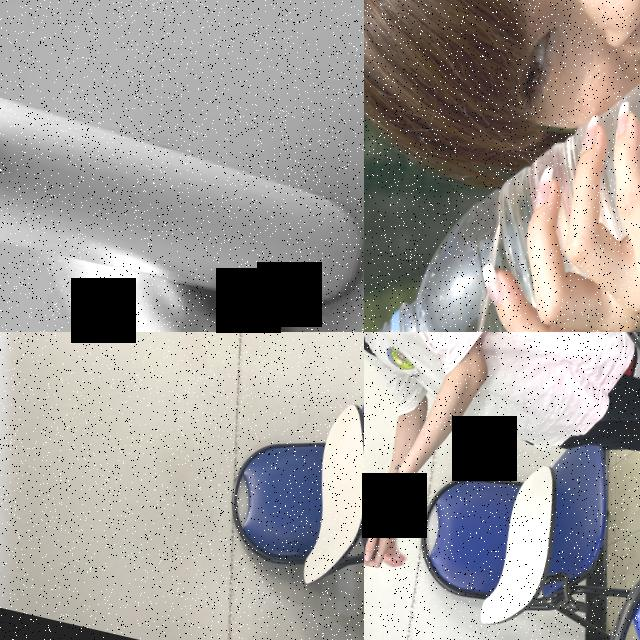bottle: (364, 0, 640, 332)
can: (0, 62, 364, 321), (3, 243, 316, 332)
cup: (364, 500, 386, 573)
